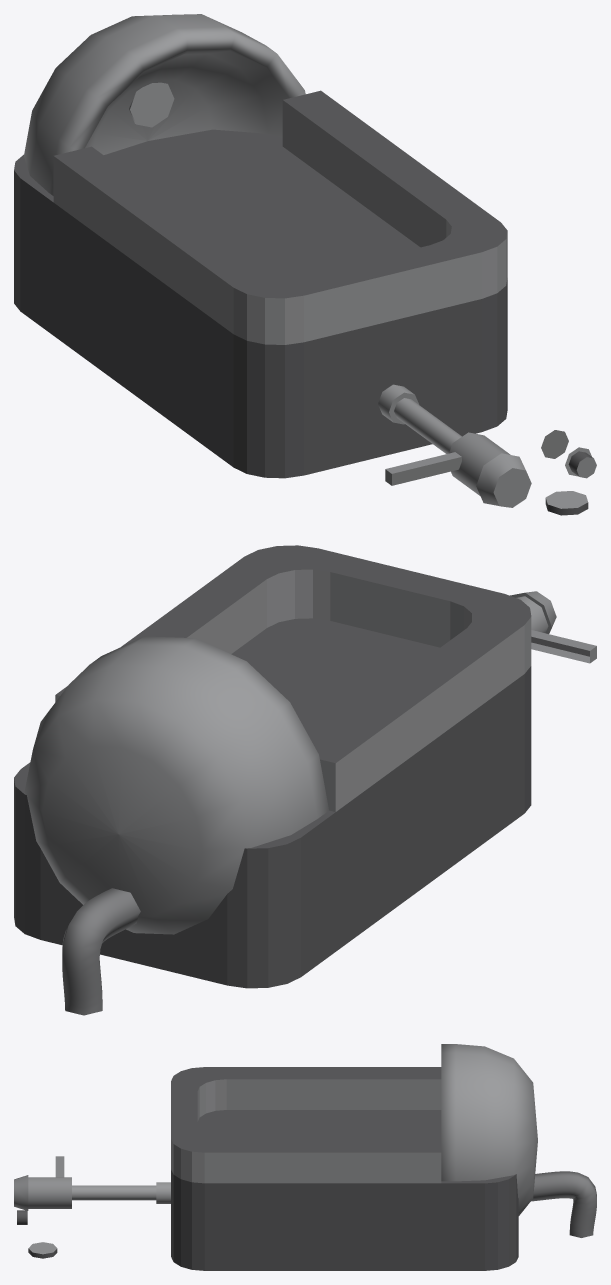
The picture shows the model from 3 angles, top to bottom: view 1: azimuth 30°, elevation 25°; view 2: azimuth 150°, elevation 25°; view 3: azimuth 270°, elevation 25°; orthographic projection. The views are drawn at different scales.
Size of the model in its own units: 0.42 by 0.41 by 1.21.
